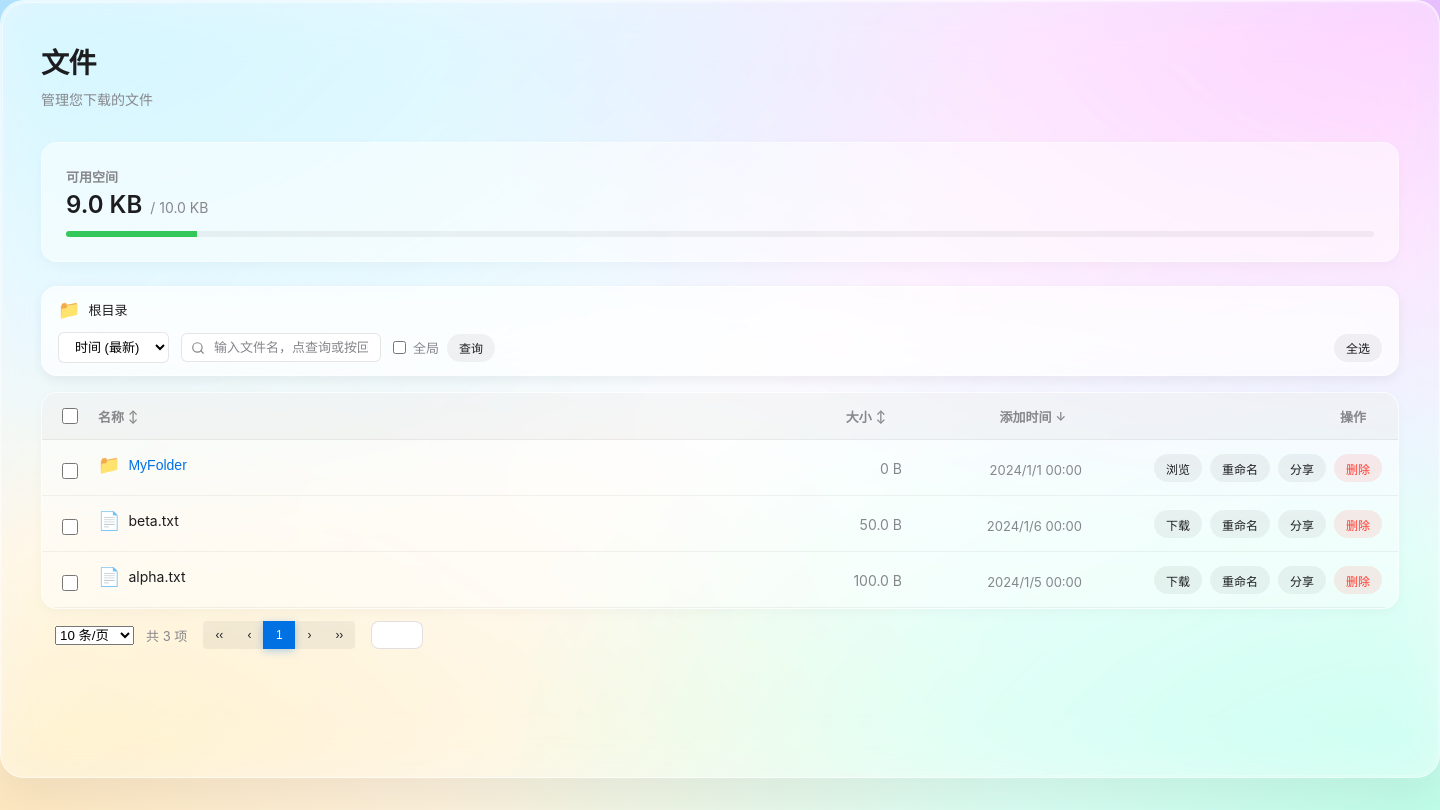
Test: FilesPage rename › rename failure shows error toast and stays in edit mode
Expected: the button "MyFolder" is shown, x1=128 y1=456 x2=187 y2=472
Click the button "重命名" in the row of "2024/1/5 00:00" at (1240, 580), box x1=1210 y1=566 x2=1270 y2=594
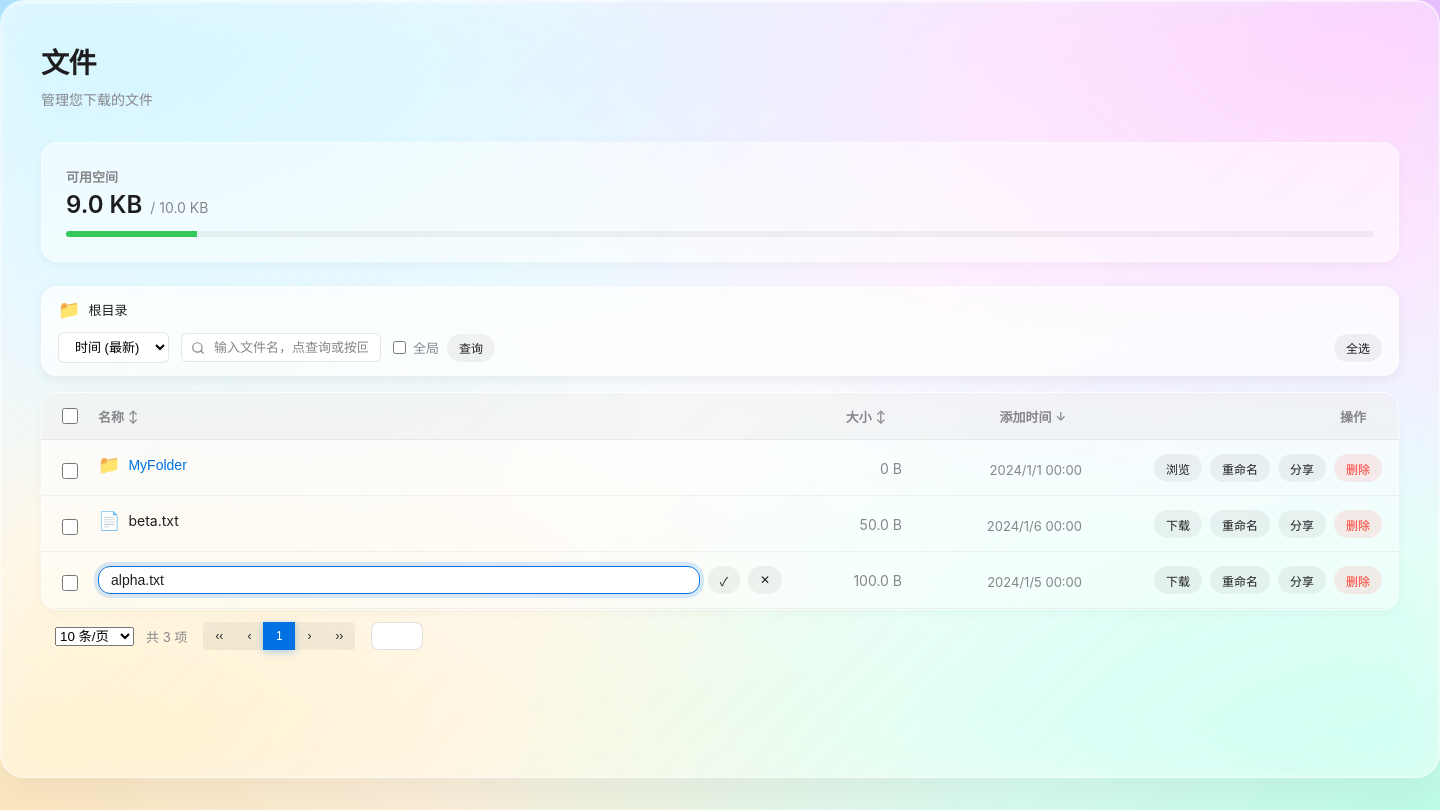
Replace the text in the field named "重命名文件" with "dup.txt" at (399, 580), box x1=98 y1=566 x2=700 y2=594
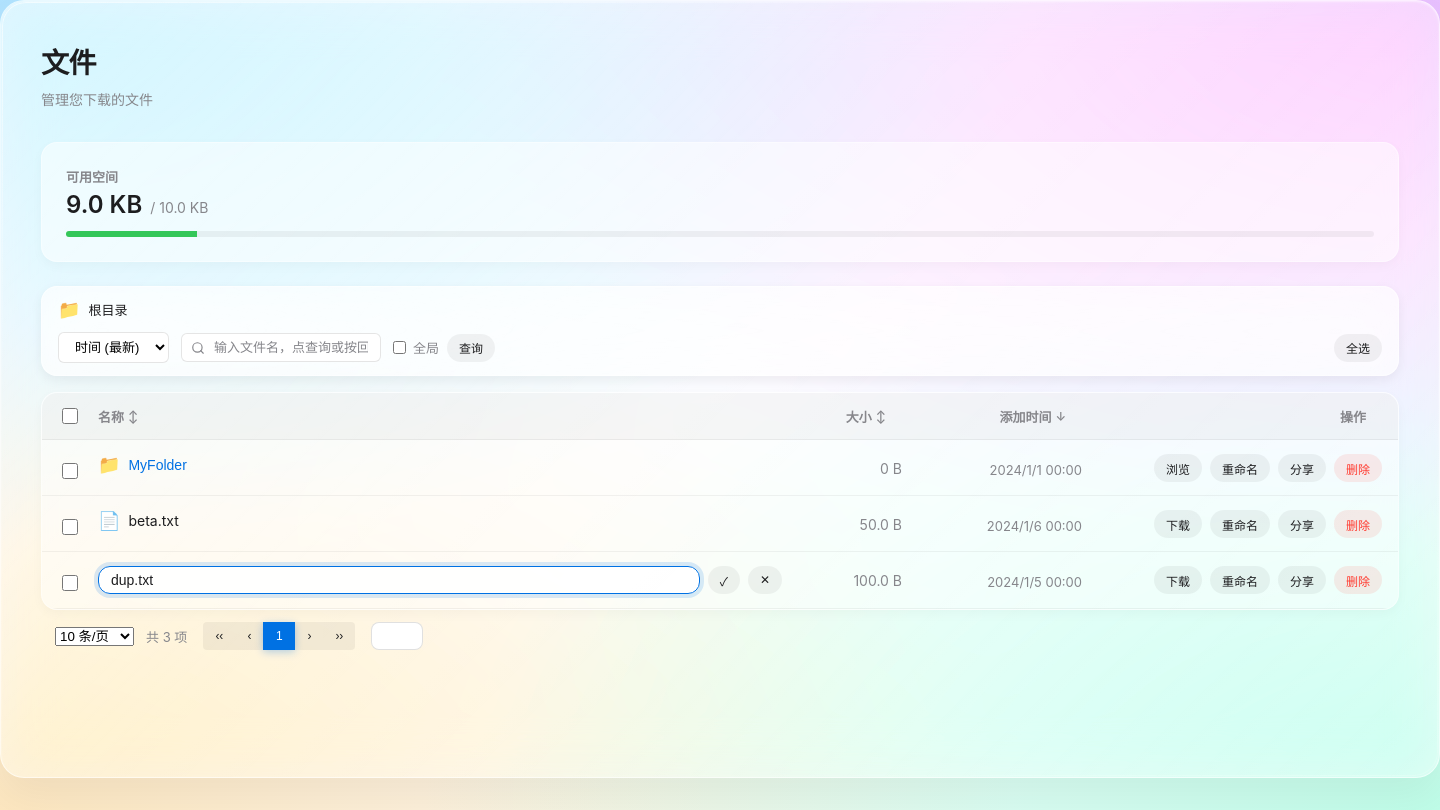
Click the button named "确认重命名" at (724, 580), box x1=708 y1=566 x2=740 y2=594
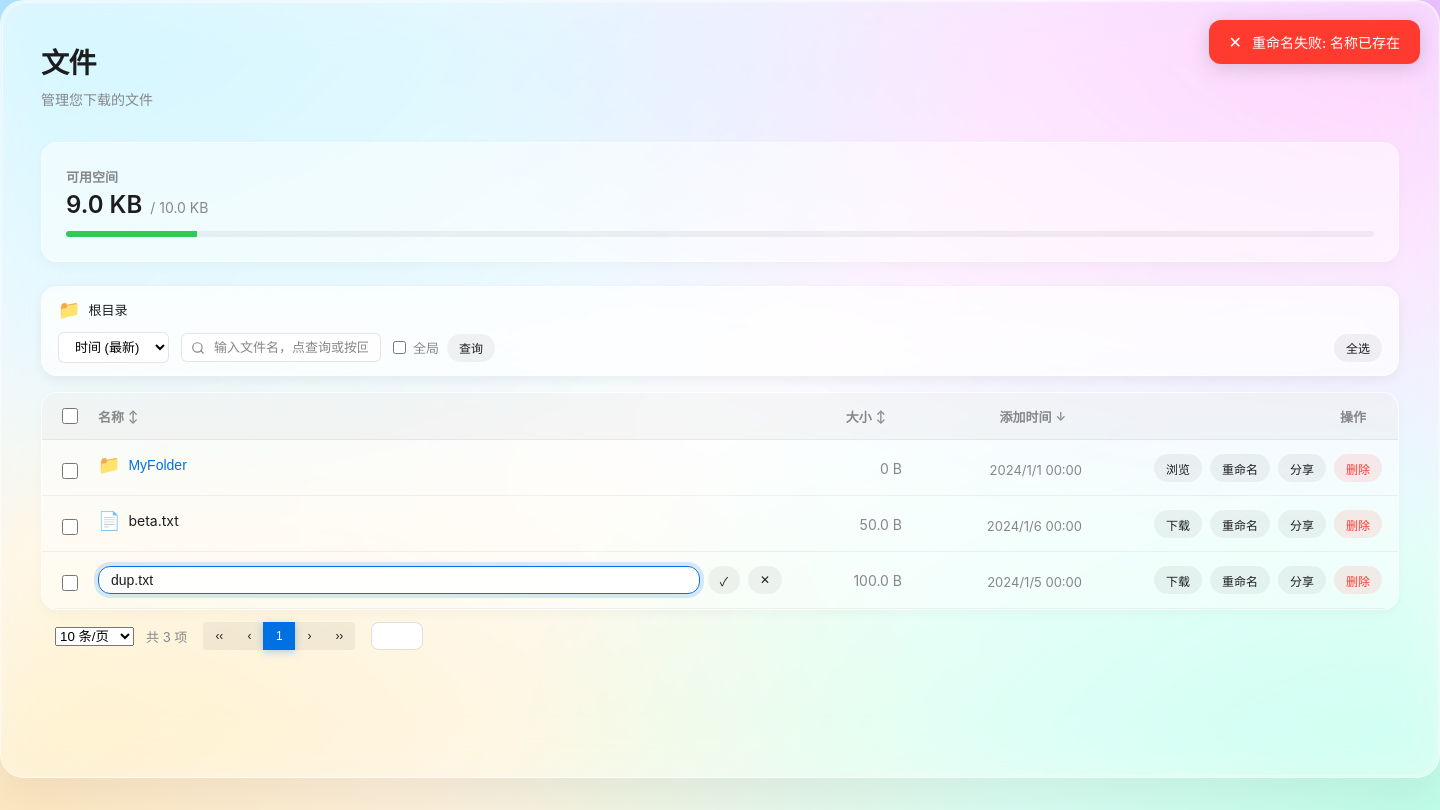
Expected: the text "重命名失败: 名称已存在" is shown, x1=1252 y1=32 x2=1400 y2=52
